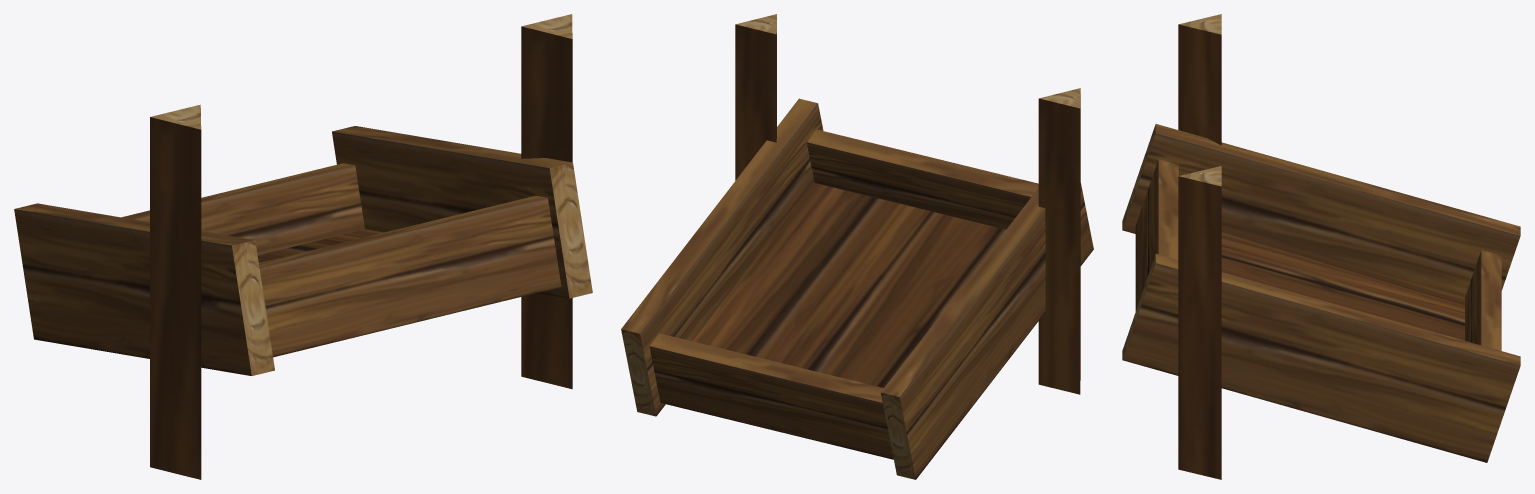
Rendered from Rack02.fbx.
3 renders of one model, left to right at view 1: azimuth 30°, elevation 25°; view 2: azimuth 150°, elevation 25°; view 3: azimuth 270°, elevation 25°, orthographic. The views are drawn at different scales.
Visible parts, largest first — view 1: Rack02; view 2: Rack02; view 3: Rack02.
Part boxes in pixels (x1,y1,x2,y2): Rack02: [14, 14, 592, 479]; Rack02: [621, 14, 1093, 479]; Rack02: [1122, 14, 1520, 479].
Bounding box in the file's own units: 2.14 × 1.69 × 2.08.
